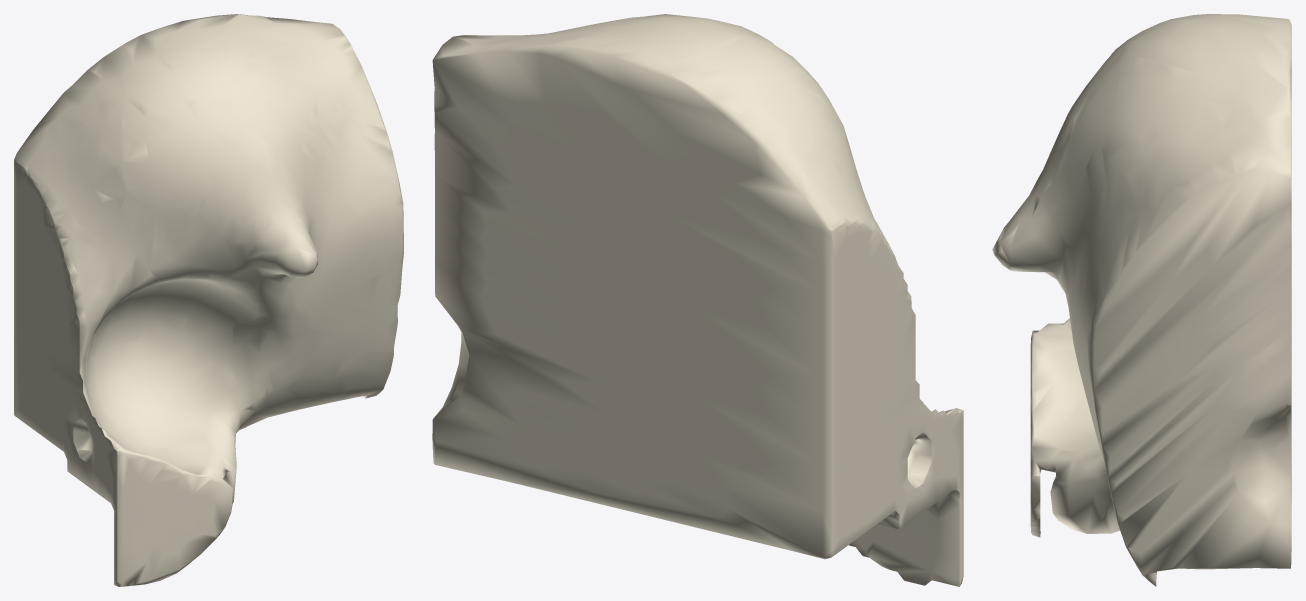
Rendered from frontal_l.glb.
3 views of the same model, side by side, from view 1: azimuth 30°, elevation 25°; view 2: azimuth 150°, elevation 25°; view 3: azimuth 270°, elevation 25° (orthographic). The views are drawn at different scales.
Parts seen in each view (by area): view 1: geometry_0; view 2: geometry_0; view 3: geometry_0.
Part boxes in pixels (bbox=[...]): geometry_0: bbox=[14, 14, 403, 586]; geometry_0: bbox=[432, 14, 963, 586]; geometry_0: bbox=[992, 14, 1291, 586].
Bounding box in the file's own units: 0.23 × 0.3223 × 0.1549.
